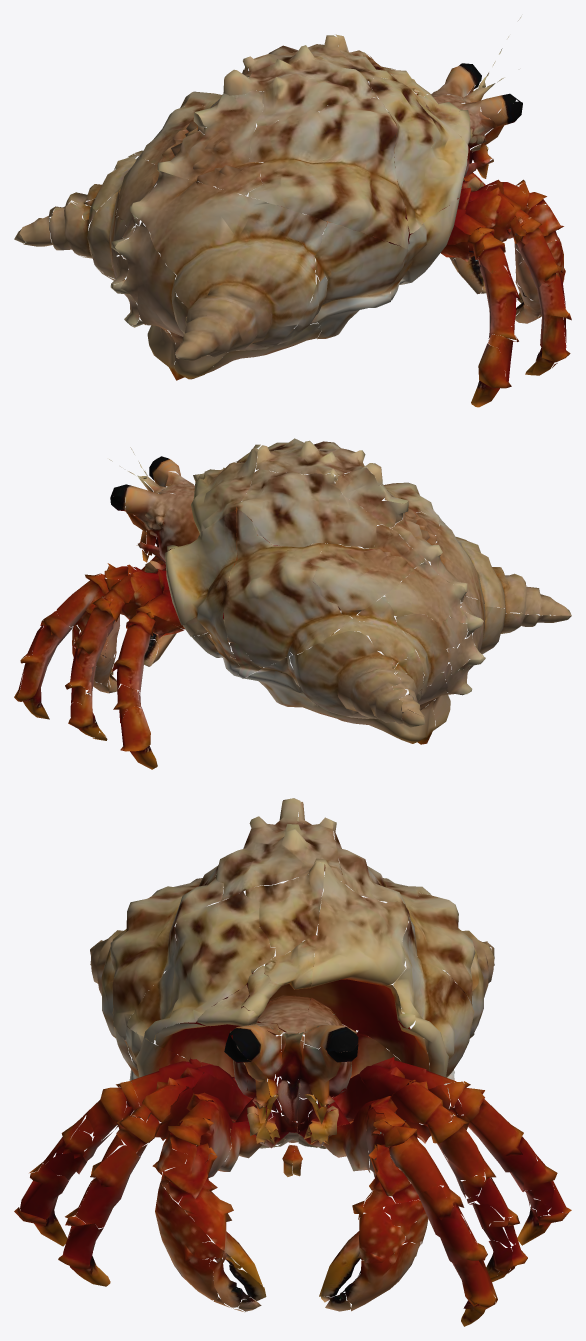
File: hermit_crab.glb
3 renders of one model, top to bottom at view 1: azimuth 30°, elevation 25°; view 2: azimuth 150°, elevation 25°; view 3: azimuth 270°, elevation 25°, orthographic. The views are drawn at different scales.
Visible parts, largest first — view 1: tripo_node_5f89e168-5be5-48a1-b11f-426bee0f2c49; view 2: tripo_node_5f89e168-5be5-48a1-b11f-426bee0f2c49; view 3: tripo_node_5f89e168-5be5-48a1-b11f-426bee0f2c49.
Part boxes in pixels (x1,y1,x2,y2): tripo_node_5f89e168-5be5-48a1-b11f-426bee0f2c49: (14, 16, 571, 407); tripo_node_5f89e168-5be5-48a1-b11f-426bee0f2c49: (14, 438, 571, 769); tripo_node_5f89e168-5be5-48a1-b11f-426bee0f2c49: (14, 798, 571, 1326).
Bounding box in the file's own units: 1 × 0.6578 × 0.8961.
1 material, 1 textured.
